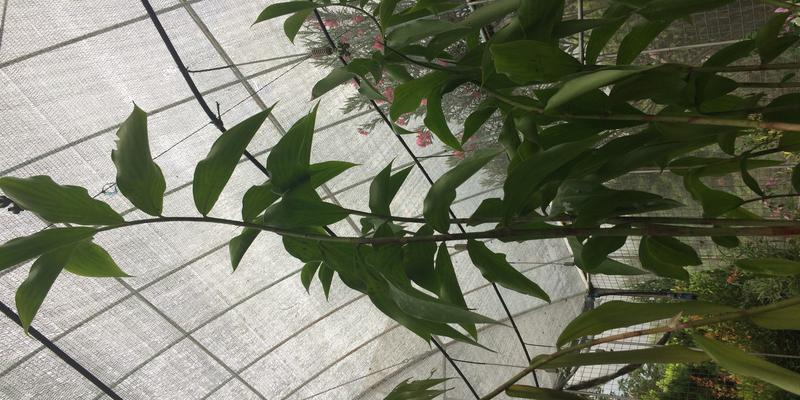Insulin: (1, 133, 800, 344)
